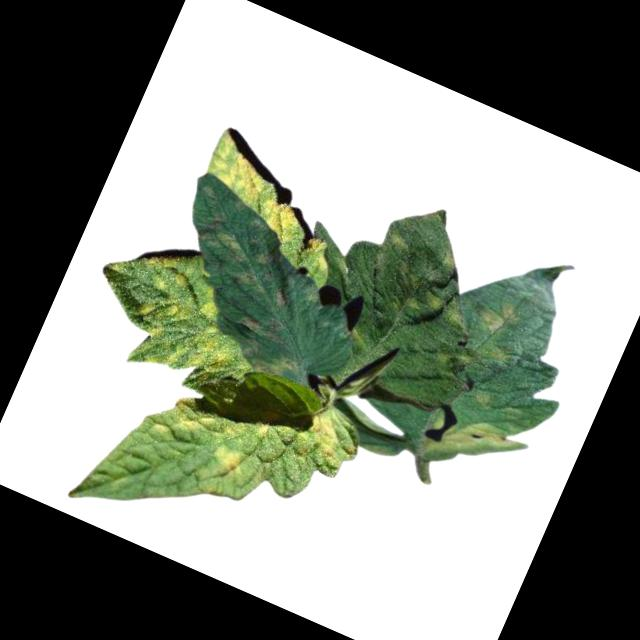Leaf_Mold: (72, 227, 261, 400), (188, 126, 365, 271), (168, 183, 318, 312), (420, 400, 529, 489), (224, 307, 313, 386), (398, 270, 481, 337), (296, 407, 362, 472), (195, 439, 258, 506), (473, 289, 527, 342), (167, 392, 222, 440), (377, 219, 417, 259), (251, 420, 272, 444)
